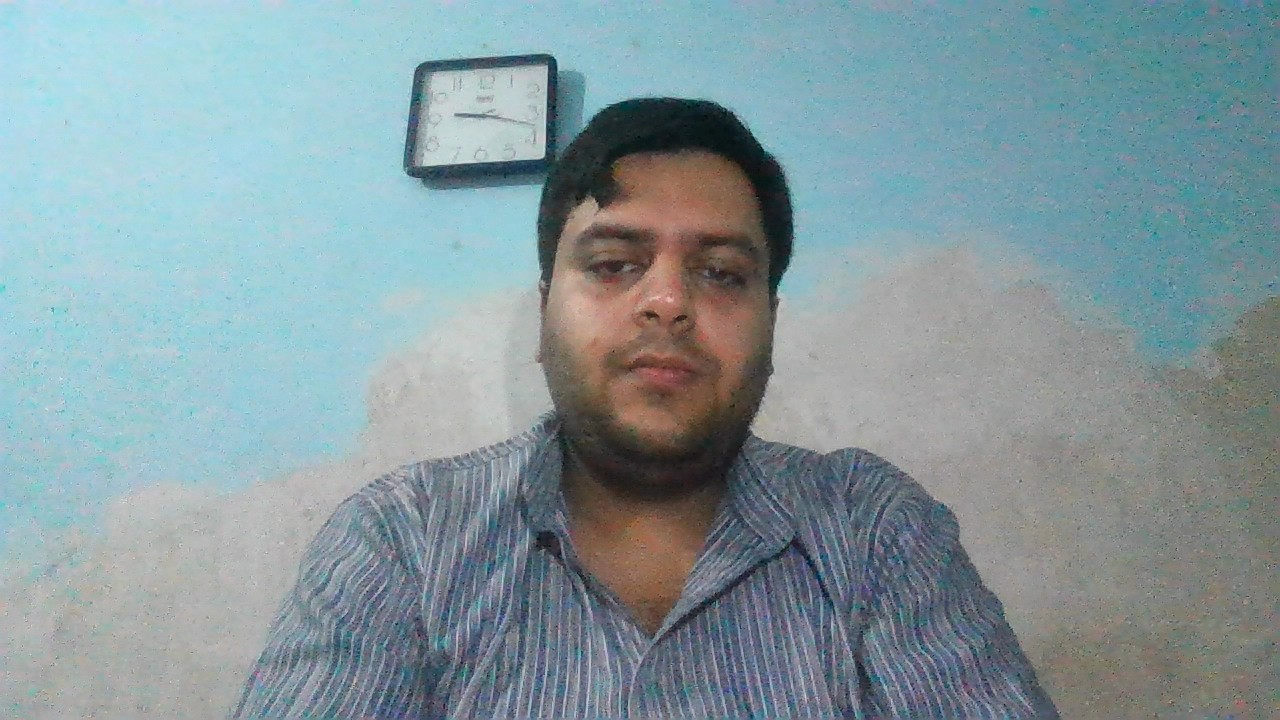No Mask: (535, 280, 787, 491)
